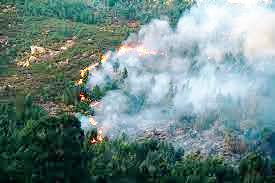fire: (69, 40, 159, 151)
